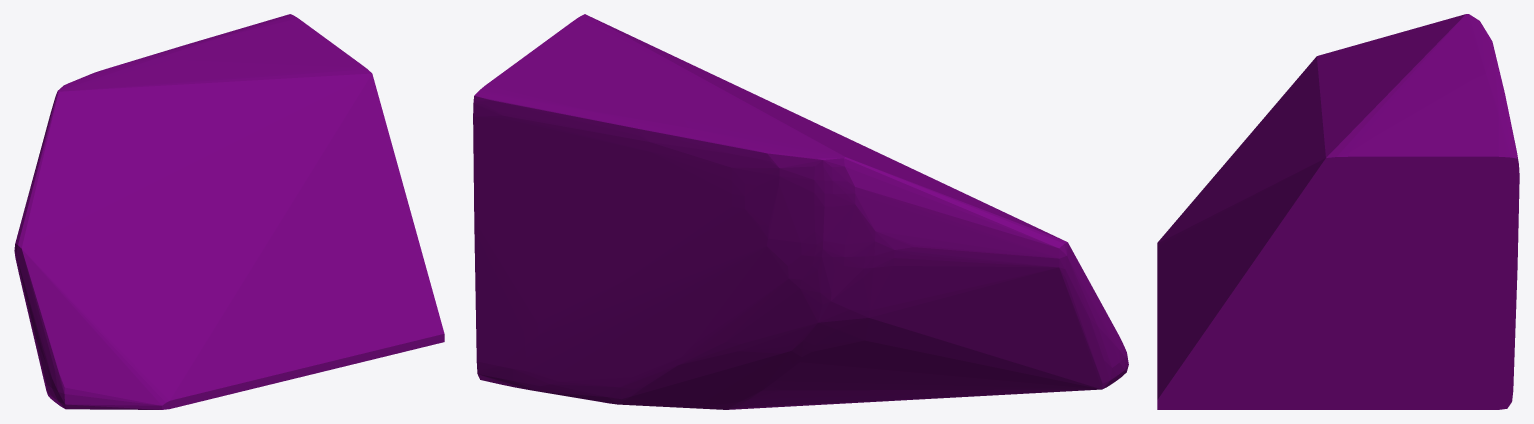
File: right-elbow-0_part_11.obj
The picture shows the model from 3 angles, left to right: view 1: azimuth 30°, elevation 25°; view 2: azimuth 150°, elevation 25°; view 3: azimuth 270°, elevation 25°; orthographic projection. The views are drawn at different scales.
Bounding box in the file's own units: 0.0353 × 0.0204 × 0.0265.
